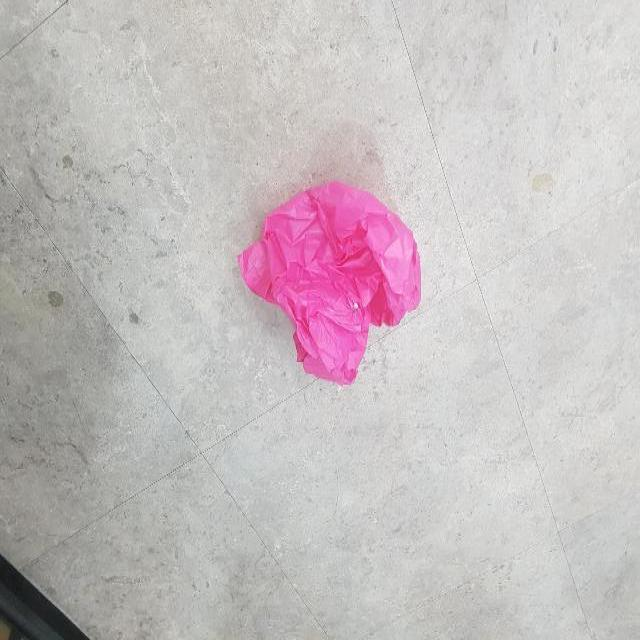plastic bag: (238, 171, 426, 386)
